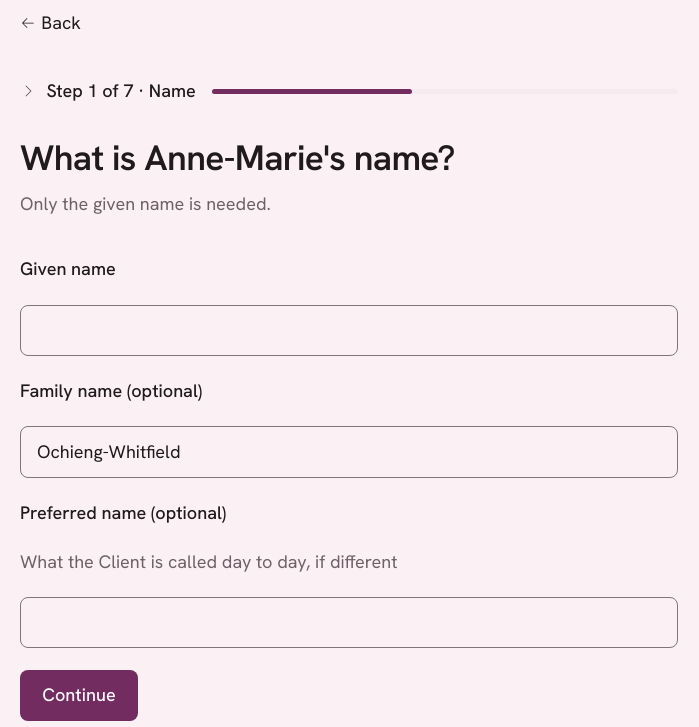
Test: the first question, her name › refuses a blank given name
This screenshot has width=699, height=727.
Click the button "Continue": (79, 695) x1=20 y1=670 x2=138 y2=721
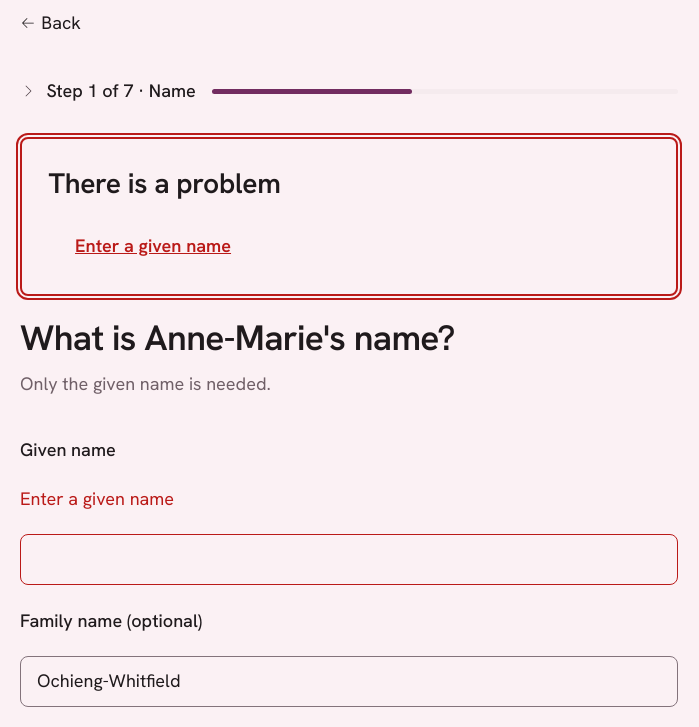
Now the link "Enter a given name" is shown, box x1=75 y1=234 x2=231 y2=257
